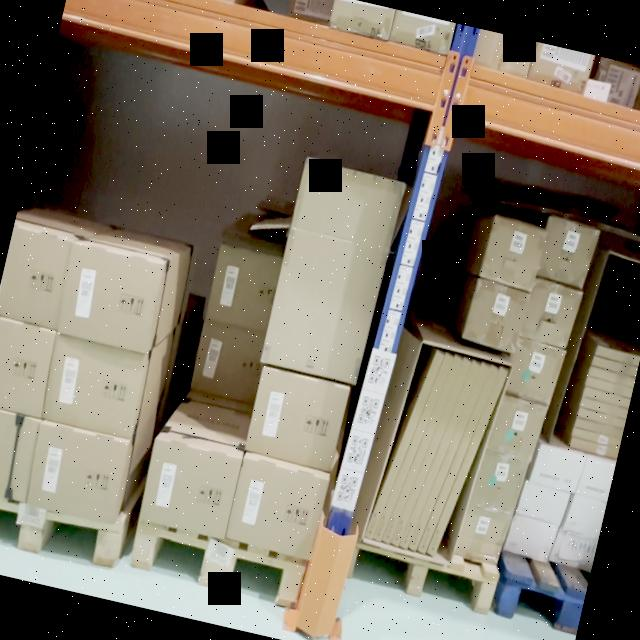box: (259, 157, 404, 383), (426, 366, 508, 558), (416, 365, 499, 554), (408, 363, 490, 551), (398, 361, 480, 549), (372, 354, 454, 542), (390, 357, 471, 547), (382, 357, 462, 544), (364, 351, 444, 538), (58, 244, 164, 352), (244, 366, 348, 471), (225, 456, 328, 560), (43, 336, 146, 438), (138, 439, 242, 540), (27, 425, 128, 523), (0, 225, 77, 331), (204, 242, 284, 330), (0, 317, 60, 418), (190, 320, 264, 400), (463, 277, 529, 353), (480, 217, 545, 290), (535, 217, 599, 289), (519, 279, 582, 350), (486, 395, 547, 462), (505, 339, 565, 407), (468, 449, 529, 514), (0, 406, 39, 498), (453, 504, 512, 564), (529, 444, 585, 493), (515, 478, 570, 527), (502, 515, 558, 561), (548, 527, 597, 572), (563, 493, 606, 539), (575, 455, 615, 502), (585, 374, 633, 399), (579, 396, 627, 419), (576, 407, 626, 429), (570, 437, 619, 459), (591, 355, 638, 377), (588, 365, 635, 387), (574, 417, 623, 438), (572, 427, 621, 448), (594, 344, 640, 366), (582, 386, 630, 407)
